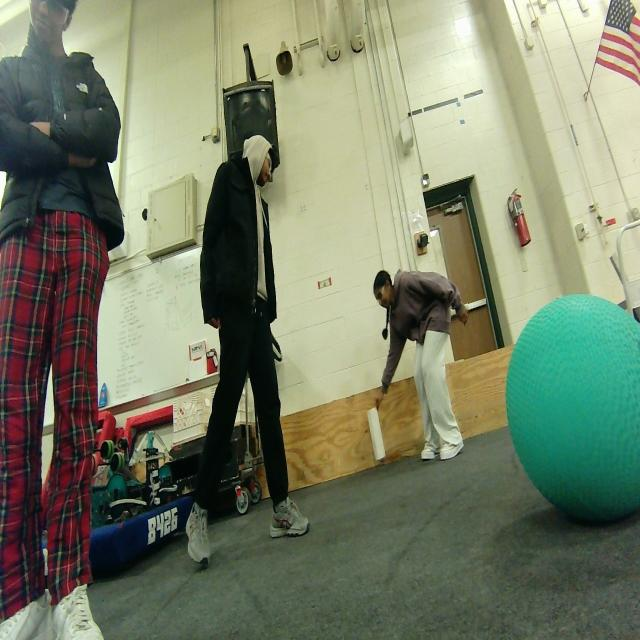algae: (506, 294, 640, 524)
coral: (364, 402, 393, 465)
